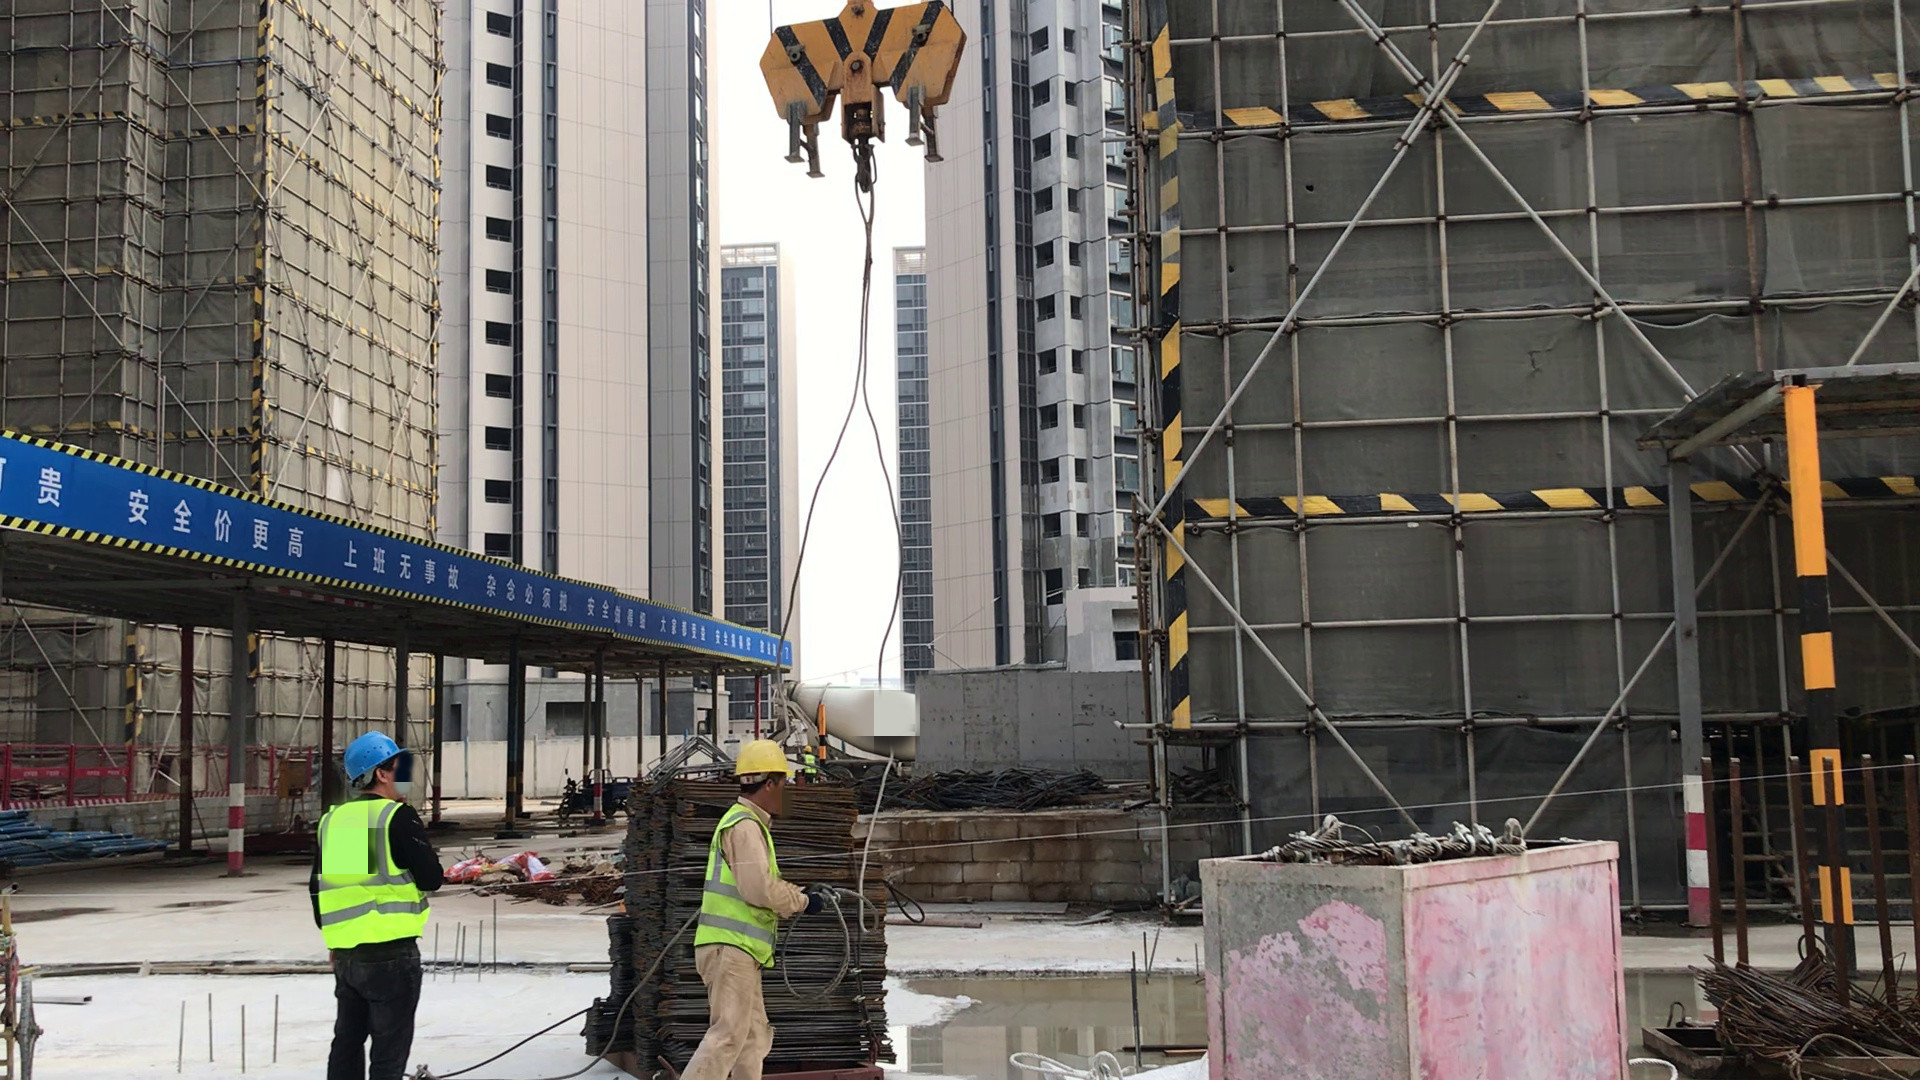ebox: (275, 755, 311, 800)
fence: (1, 735, 325, 809)
helmet: (730, 742, 795, 801), (343, 725, 406, 783), (802, 744, 814, 753)
hook: (748, 1, 970, 209)
person: (314, 721, 449, 1080), (681, 741, 820, 1080), (794, 742, 820, 784)
slogan: (1, 439, 311, 557), (335, 527, 577, 621), (581, 591, 797, 662)
vest: (313, 801, 430, 952), (700, 808, 787, 952), (803, 754, 817, 773)
